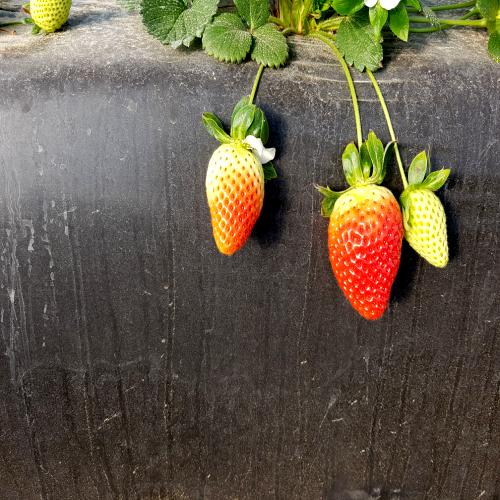partially-ripe: (325, 174, 403, 324), (196, 134, 267, 261)
